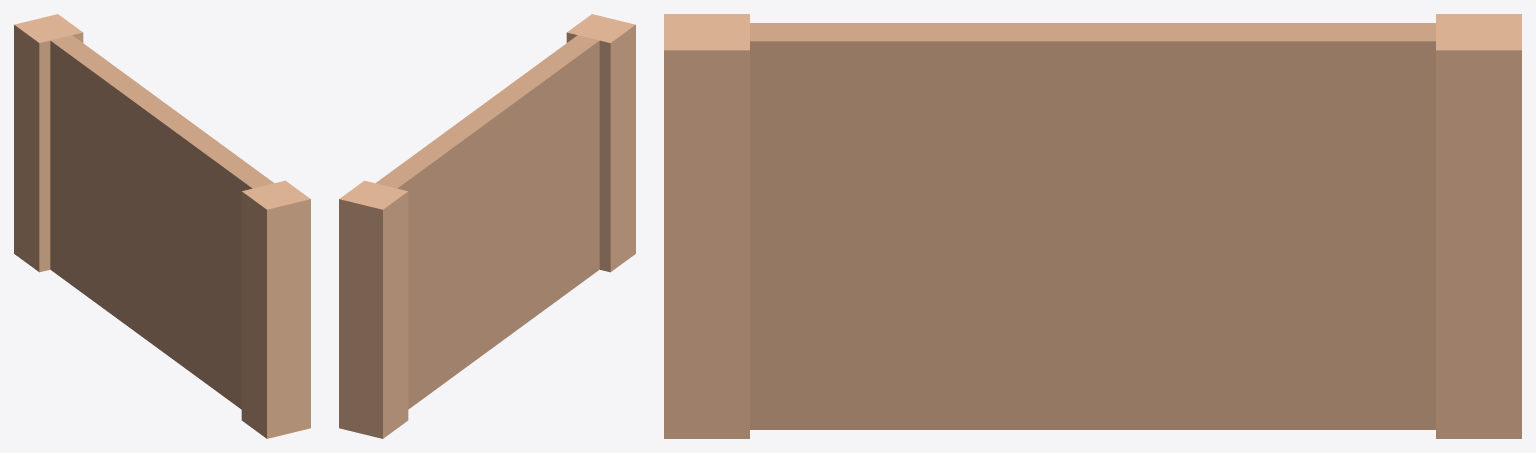
File: wallWoodHalf.glb
The picture shows the model from 3 angles, left to right: view 1: azimuth 30°, elevation 25°; view 2: azimuth 150°, elevation 25°; view 3: azimuth 270°, elevation 25°; orthographic projection. The views are drawn at different scales.
Parts seen in each view (by area): view 1: wallWoodHalf; view 2: wallWoodHalf; view 3: wallWoodHalf.
Part boxes in pixels (box(x1,y1,x2,y2)): wallWoodHalf: box(14, 14, 310, 438); wallWoodHalf: box(339, 14, 635, 438); wallWoodHalf: box(664, 14, 1521, 438).
Size of the model in its own units: 0.1 by 0.5 by 1.
